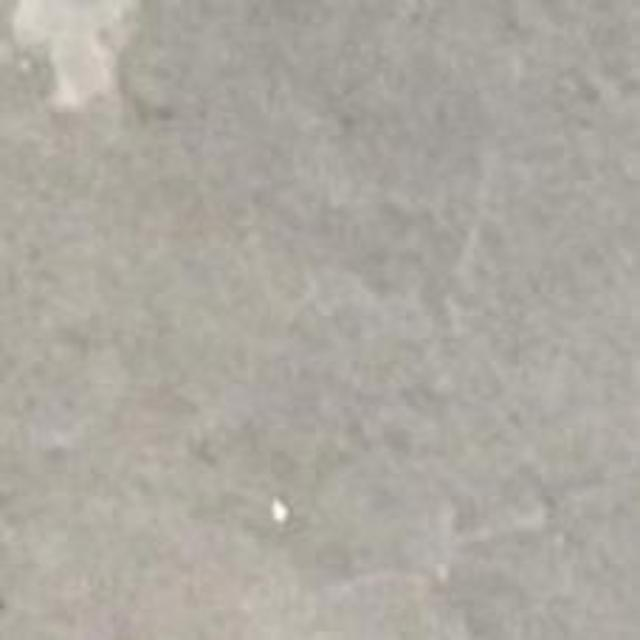peeling plaster: (12, 0, 140, 112)
